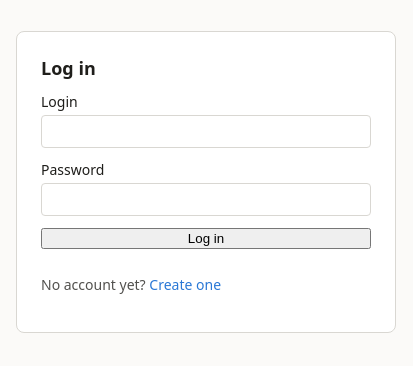
Test: the login screen › says Wrong login or password
The image size is (413, 366).
Type "otto" into the field labelled "Login" at (206, 132), box left=41, top=115, right=371, bottom=148
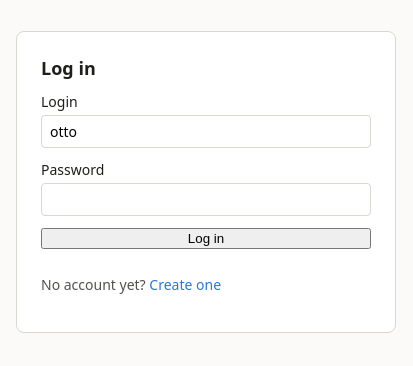
Type "nope-nope-1" into the password field labelled "Password" at (206, 200), box left=41, top=183, right=371, bottom=216
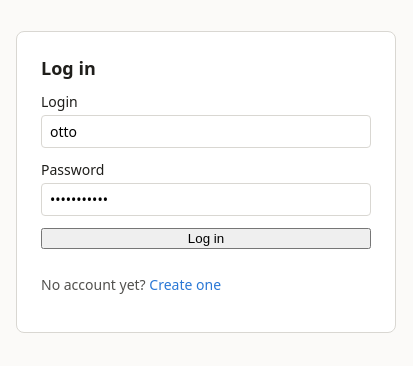
Click the button "Log in" at (206, 238), box left=41, top=228, right=371, bottom=249
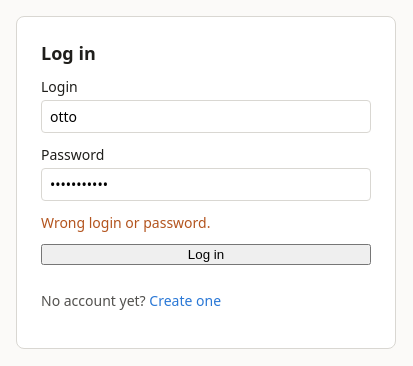
Result: the message shows "Wrong login or password" at left=41, top=212, right=210, bottom=232
